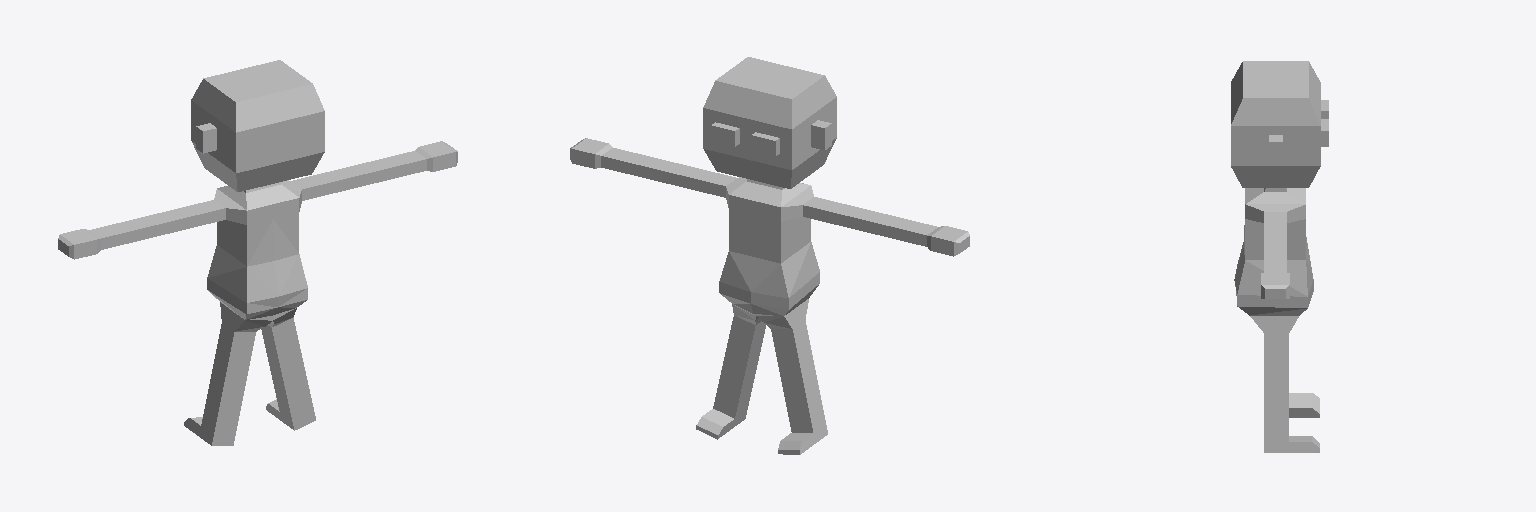
The model's file is Ludzik-textured-1-parts.obj.
The picture shows the model from 3 angles: view 1: azimuth 30°, elevation 25°; view 2: azimuth 150°, elevation 25°; view 3: azimuth 270°, elevation 25°; orthographic projection.
Visible parts, largest first — view 1: Cube, Reka.001_Cube.002, Reka_Cube.001; view 2: Cube, Reka.001_Cube.002, Reka_Cube.001; view 3: Cube.
Boxes of the visible parts, x1=… form: Cube: x1=184, y1=60, x2=457, y2=445; Reka.001_Cube.002: x1=58, y1=215, x2=162, y2=259; Reka_Cube.001: x1=153, y1=200, x2=225, y2=234; Cube: x1=570, y1=57, x2=836, y2=454; Reka.001_Cube.002: x1=865, y1=212, x2=969, y2=256; Reka_Cube.001: x1=803, y1=197, x2=874, y2=231; Cube: x1=1231, y1=61, x2=1328, y2=452.
Size of the model in its own units: 14.78 by 12.8 by 3.23.